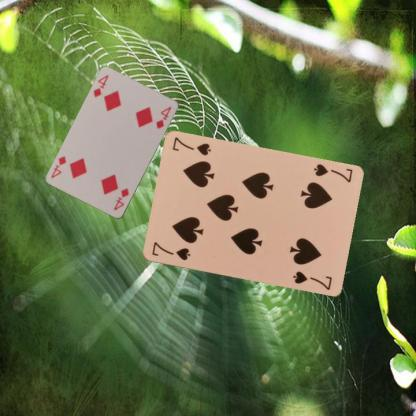4d: (90, 72, 110, 99), (111, 186, 130, 212)
7s: (148, 239, 192, 262), (310, 162, 354, 184)
